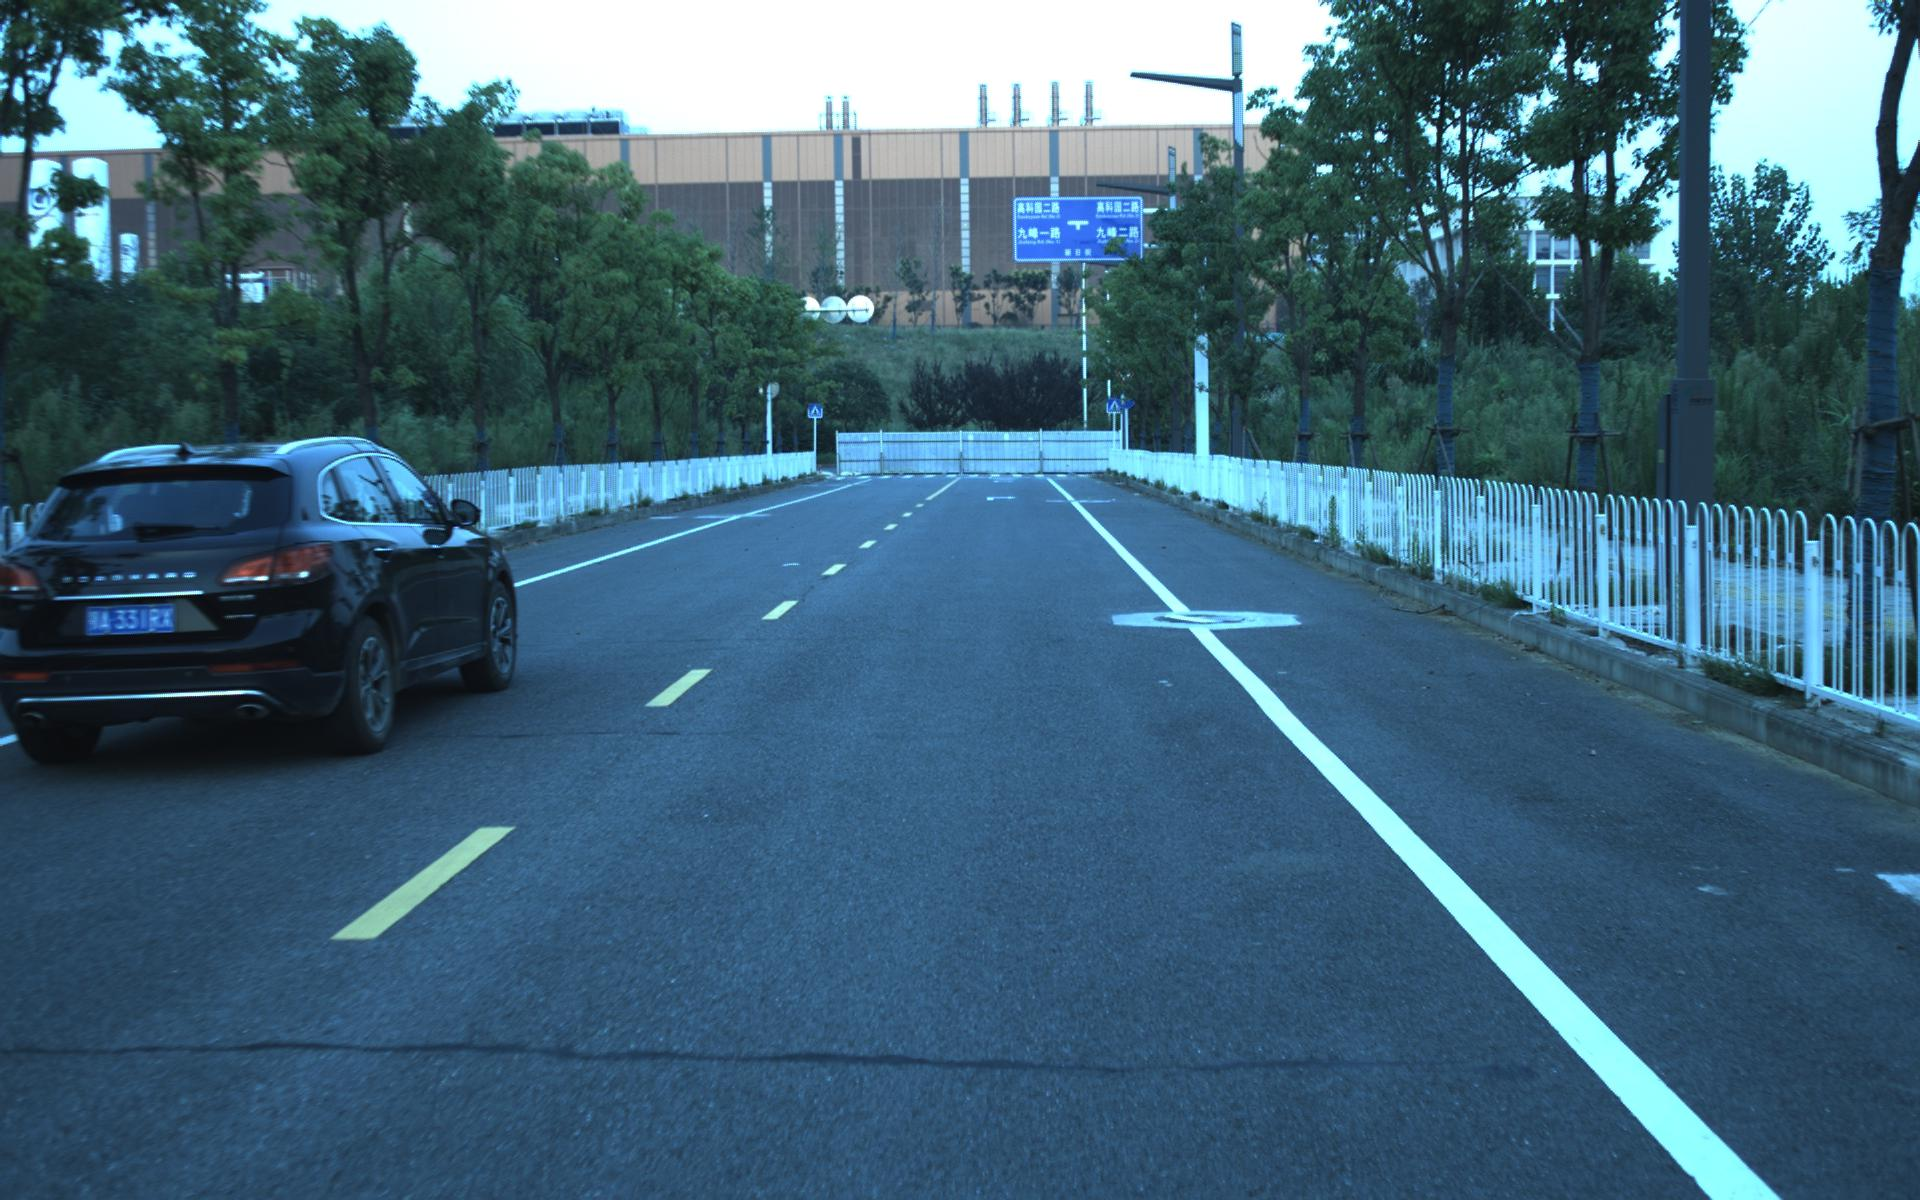Car: (1, 422, 527, 770)
